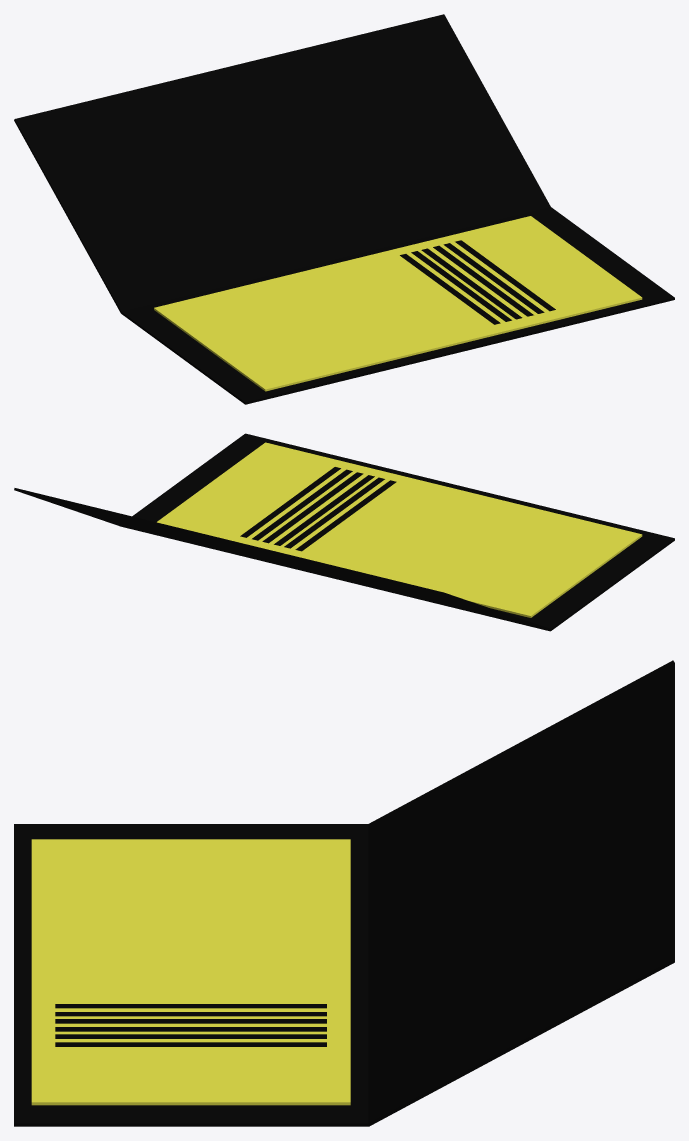
File: menu.fbx
3 renders of one model, top to bottom at view 1: azimuth 30°, elevation 25°; view 2: azimuth 150°, elevation 25°; view 3: azimuth 270°, elevation 25°, orthographic. The views are drawn at different scales.
Parts seen in each view (by area): view 1: Плоскость, Плоскость.001, Плоскость.002; view 2: Плоскость.001, Плоскость, Плоскость.002; view 3: Плоскость, Плоскость.001, Плоскость.002.
Part boxes in pixels (left/top/right/bottom): Плоскость: left=14, top=14, right=674, bottom=404; Плоскость.001: left=154, top=216, right=642, bottom=391; Плоскость.002: left=400, top=240, right=555, bottom=324; Плоскость.001: left=157, top=442, right=642, bottom=617; Плоскость: left=14, top=433, right=674, bottom=631; Плоскость.002: left=240, top=467, right=396, bottom=551; Плоскость: left=14, top=660, right=674, bottom=1126; Плоскость.001: left=31, top=839, right=350, bottom=1105; Плоскость.002: left=55, top=1004, right=326, bottom=1046.
Size of the model in its own units: 400 by 104 by 373.
